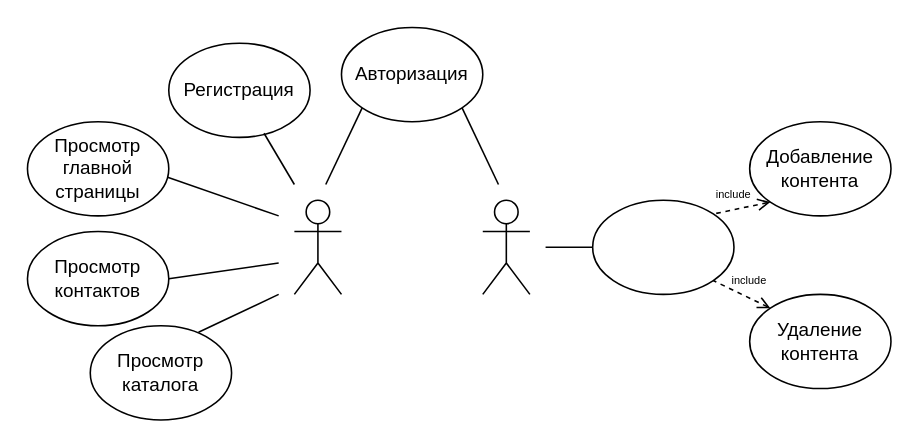
Image size: 918x447. Some labels were removed from this diagram. Each missing label, with the box of its shape:
Администратор: (481, 199, 530, 294)
Изменение контента: (591, 199, 734, 294)
Пользователь: (293, 199, 341, 294)
